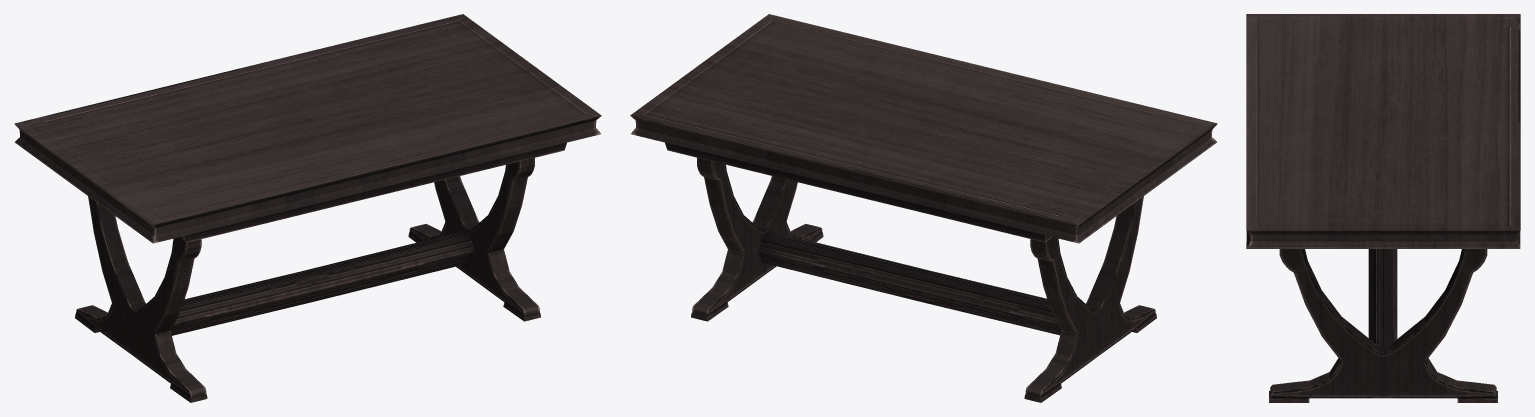
File: Desk06.FBX
The picture shows the model from 3 angles, left to right: view 1: azimuth 30°, elevation 25°; view 2: azimuth 150°, elevation 25°; view 3: azimuth 270°, elevation 25°; orthographic projection.
Visible parts, largest first — view 1: Desk06; view 2: Desk06; view 3: Desk06.
Boxes of the visible parts, left/top/right/bottom form: Desk06: left=14, top=14, right=601, bottom=402; Desk06: left=630, top=14, right=1217, bottom=402; Desk06: left=1246, top=14, right=1520, bottom=402.
Bounding box in the file's own units: 287 × 121 × 154.
